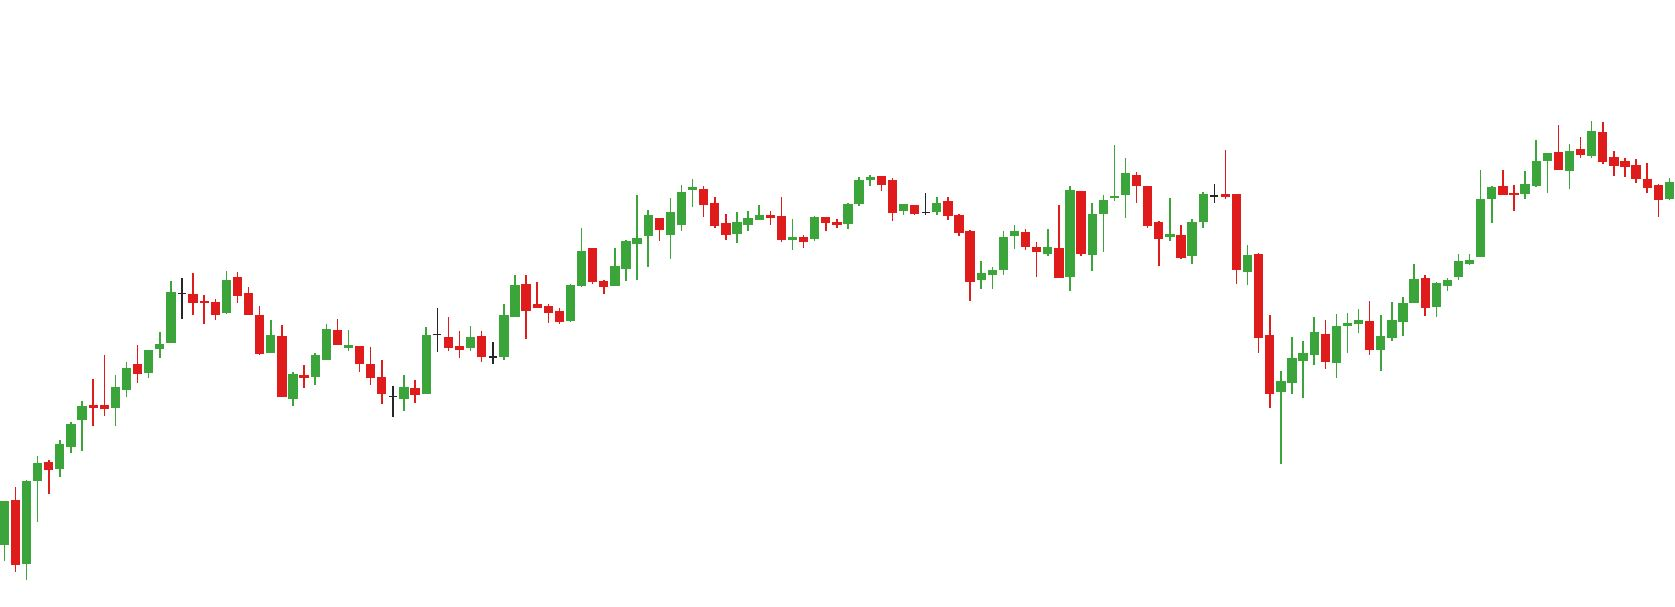buy: (275, 351, 410, 422)
sell: (1164, 150, 1244, 237)
